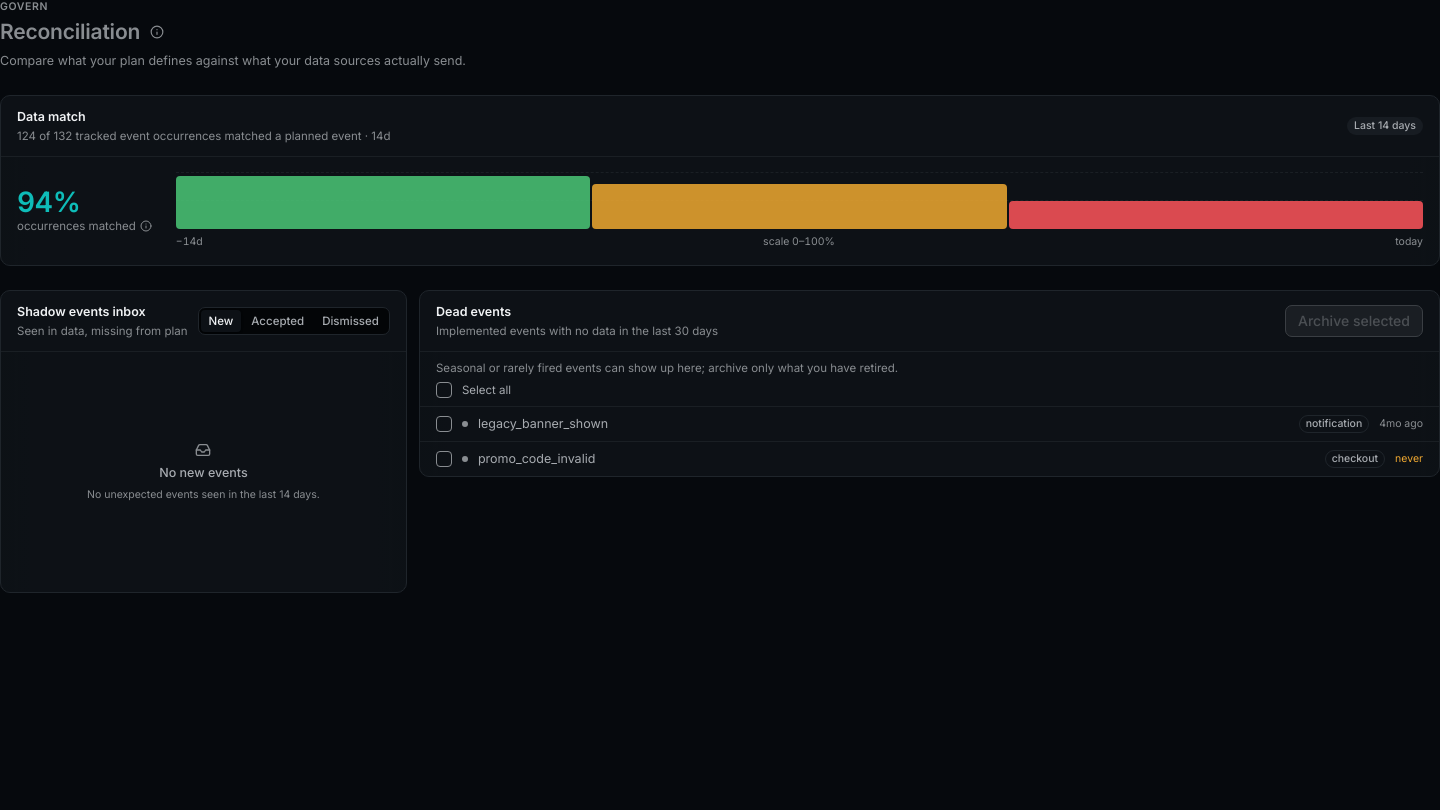
Scenario: ReconciliationPage › archives selected dead events and refetches the recon list
Click the checkbox named "Select legacy_banner_shown" at (444,424), box [436,416,452,432]
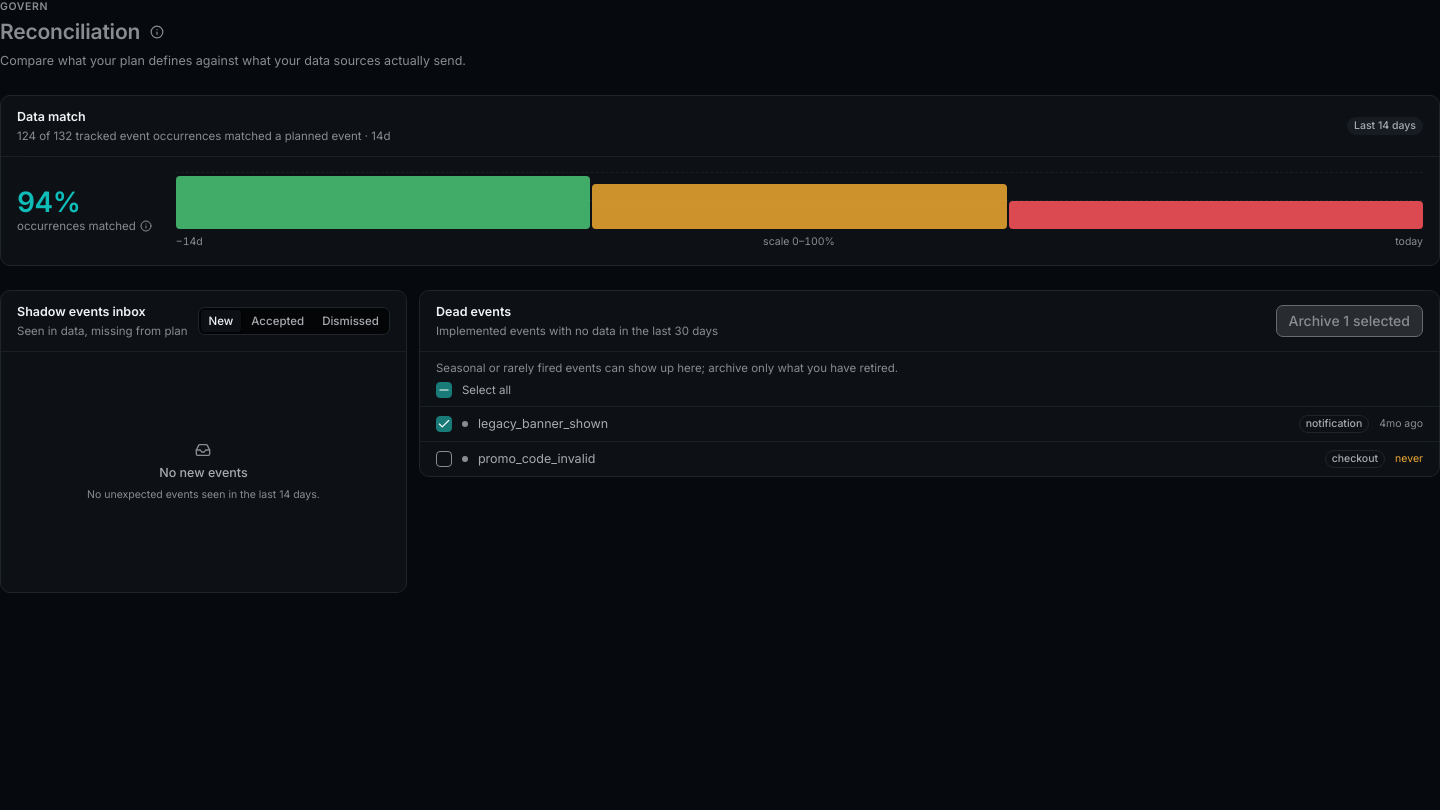
Click the button "Archive 1 selected" at (1349,321), box [1276,305,1423,337]
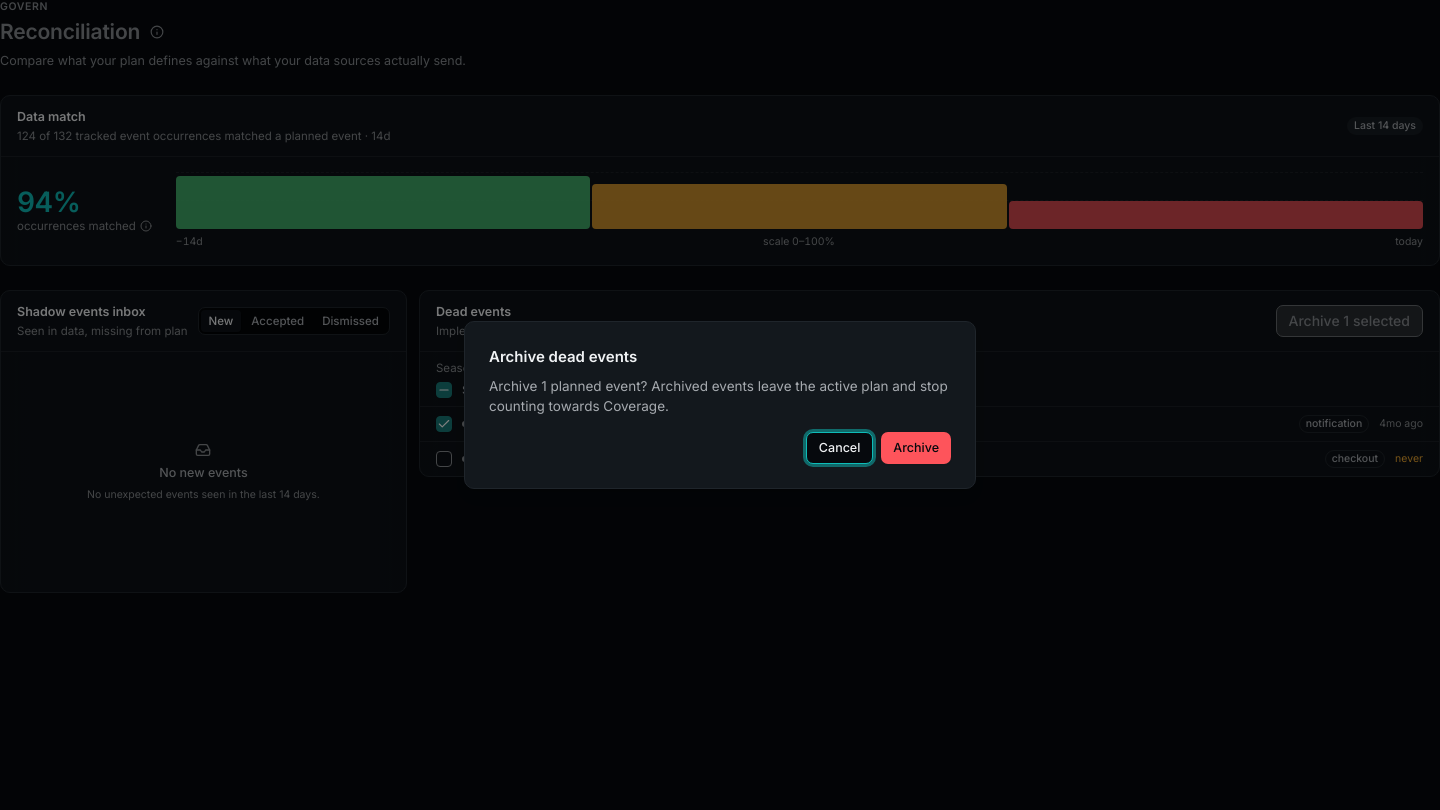
Click the button "Archive" at (916,448), box [881,432,951,464]
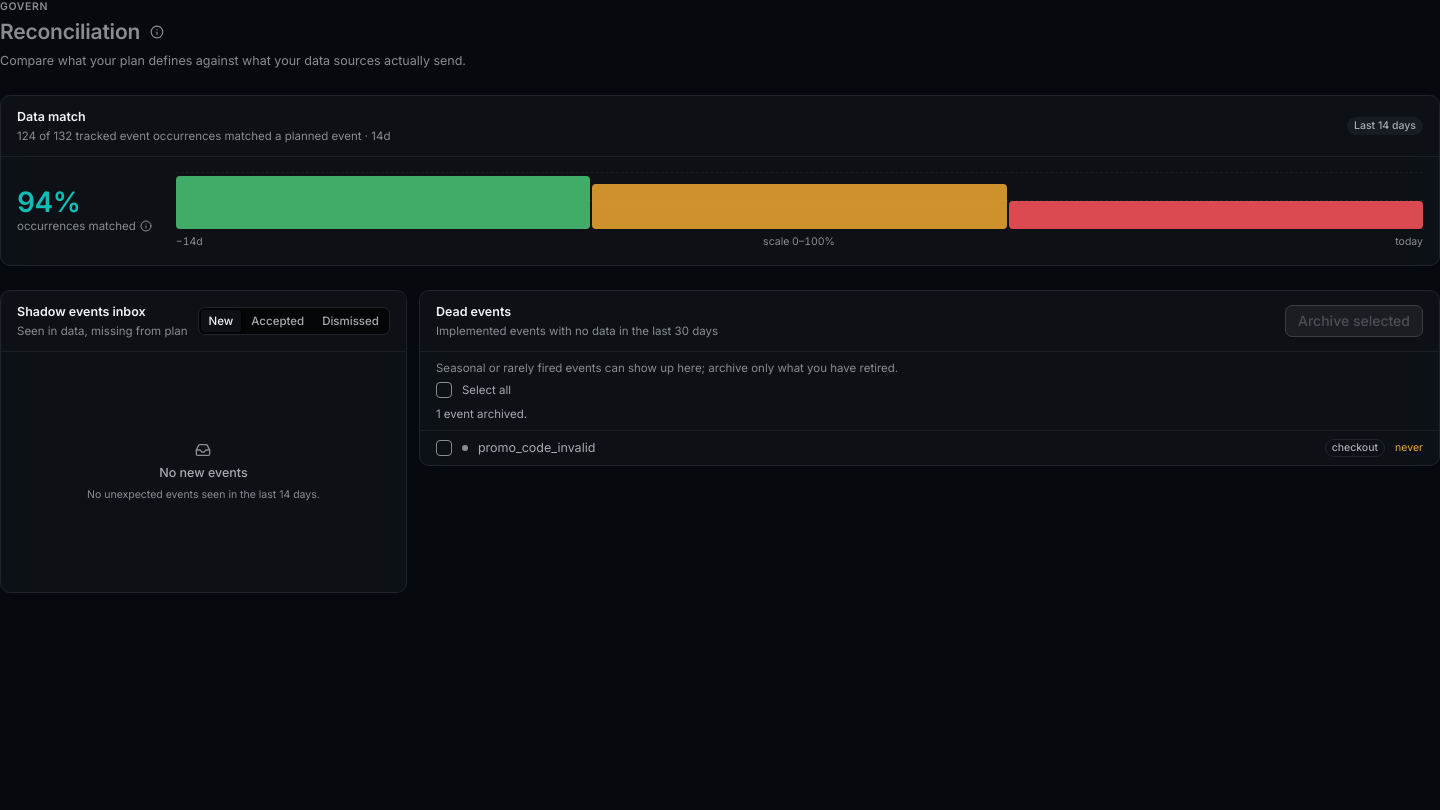
Expected: the link "promo_code_invalid" is shown, [478,440,595,455]
Expected: the link "legacy_banner_shown" is gone
